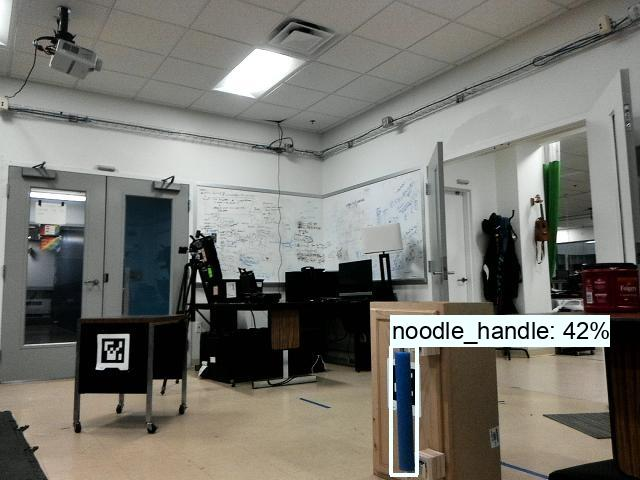noodle_handle: (392, 346, 419, 472)
